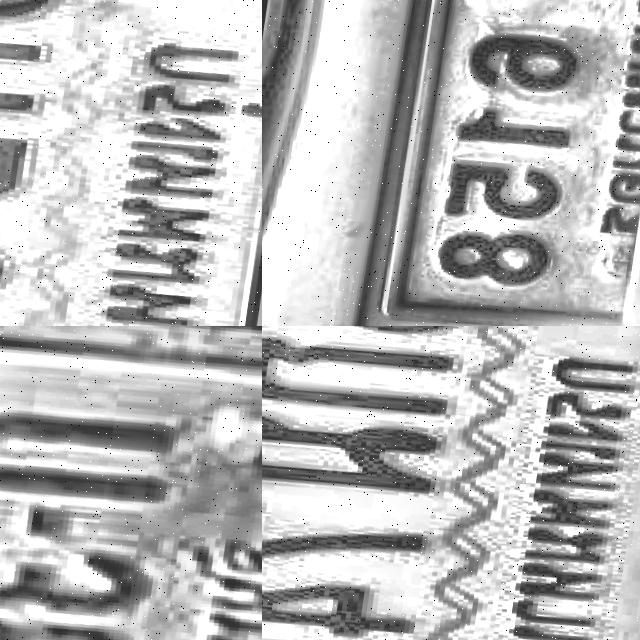license-plate: (262, 326, 640, 640), (365, 0, 640, 326), (0, 0, 262, 326), (0, 326, 262, 640)
